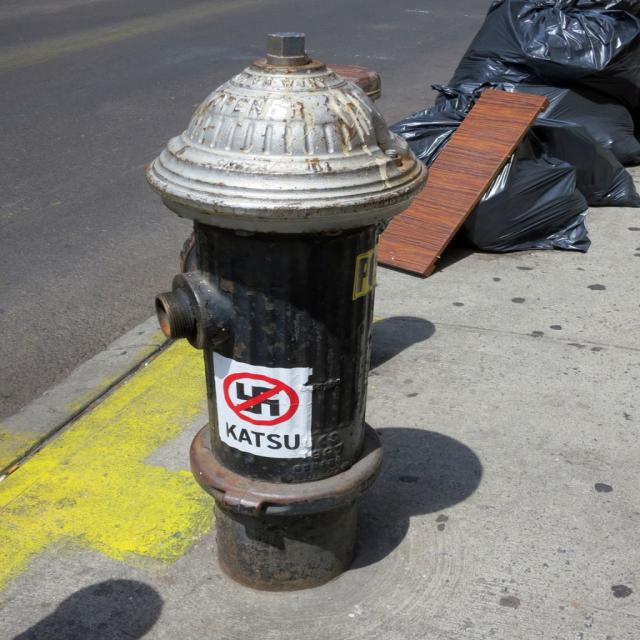fire_hydrant: (142, 30, 432, 588)
